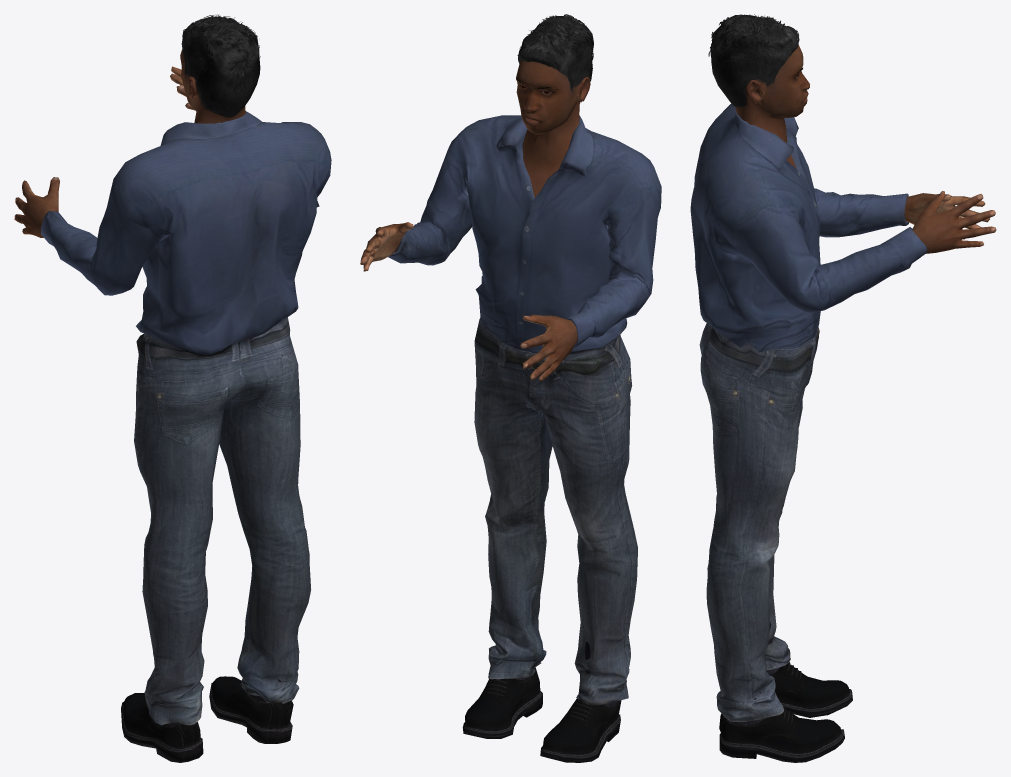
The model's file is talking_1.gltf.
3 renders of one model, left to right at view 1: azimuth 30°, elevation 25°; view 2: azimuth 150°, elevation 25°; view 3: azimuth 270°, elevation 25°, orthographic. The views are drawn at different scales.
Visible parts, largest first — view 1: talking; view 2: talking; view 3: talking.
Part boxes in pixels (x1,y1,x2,y2): talking: (14,14,331,762); talking: (360,14,661,762); talking: (690,14,996,762).
Size of the model in its own units: 0.573 by 1.71 by 0.6647.
Materials: 6 (6 with a texture image).
